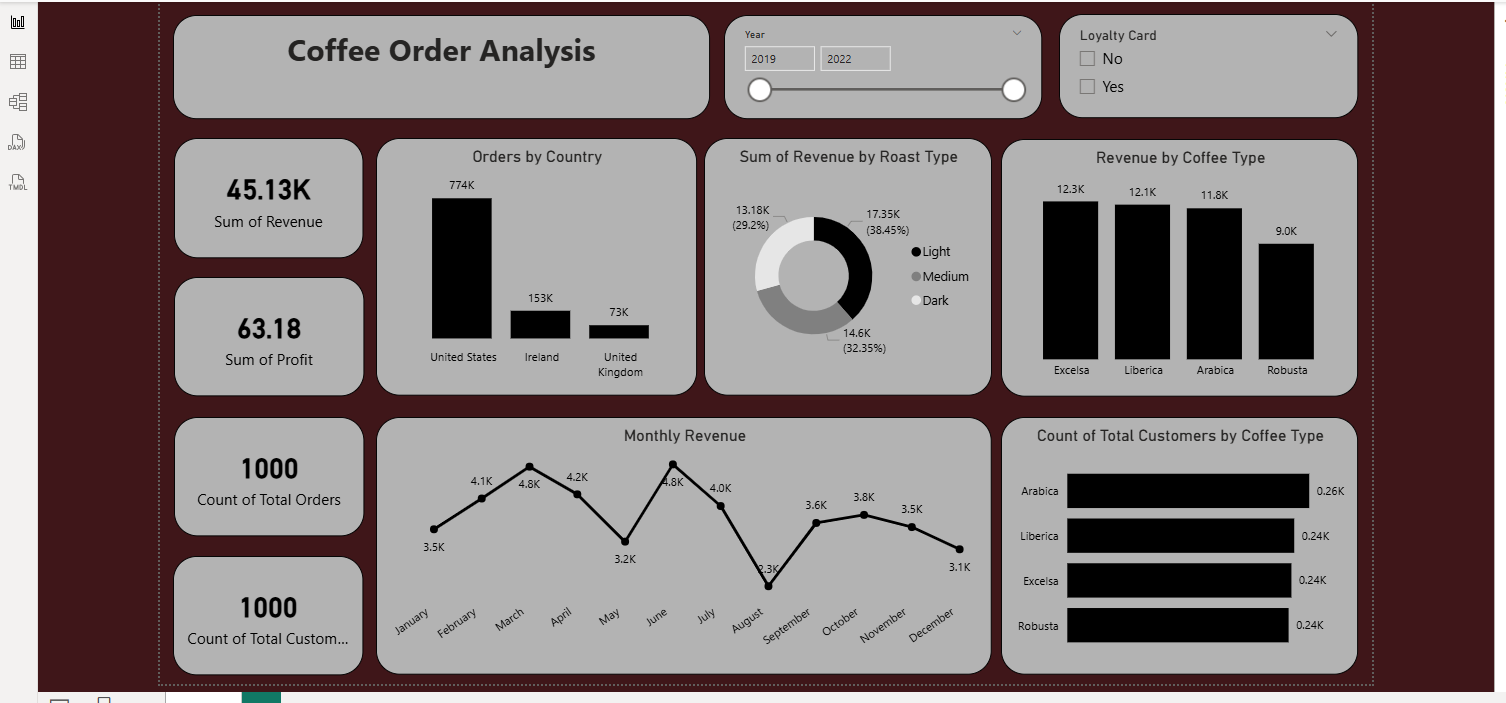

The page's visual inventory and layout, read from the dashboard file:
{"tool":"powerbi","page":{"name":"Page 1","canvas":[1280,720],"ordinal":0},"visuals":[{"type":"columnChart","title":"Orders by Country","fields":{"Category":["customers.Country"],"Y":["Sum(orders.Total Orders)"]},"box":[227.6,144.1,338.7,271.6],"z":0},{"type":"donutChart","fields":{"Category":["products.Roast Type"],"Y":["Sum(orders.Revenue)"]},"box":[574,144.1,303.5,271.6],"z":1000},{"type":"card","fields":{"Values":["CountNonNull(customers.Total Customers)"]},"box":[13.7,584.9,200.6,125.6],"z":2000},{"type":"clusteredColumnChart","title":"Revenue by Coffee Type","fields":{"Category":["products.Coffee Type"],"Y":["Sum(orders.Revenue)"]},"box":[887.4,145.2,377.2,271.6],"z":3000},{"type":"lineChart","title":"Monthly Revenue","fields":{"Category":["orders.Order Date.Variation.Date Hierarchy.Month"],"Y":["Sum(orders.Revenue)"]},"box":[228,438.1,650.3,272.4],"z":4000},{"type":"card","fields":{"Values":["Sum(orders.Revenue)"]},"box":[14.8,143.6,199.5,126.7],"z":5000},{"type":"card","fields":{"Values":["CountNonNull(orders.Total Orders)"]},"box":[14.8,438.1,200.6,125.6],"z":6000},{"type":"textbox","box":[13.7,13.7,566.9,109.8],"z":7000},{"type":"slicer","fields":{"Values":["orders.Order Date.Variation.Date Hierarchy.Year"]},"box":[595.4,13.7,335.7,109.8],"z":8000},{"type":"slicer","fields":{"Values":["customers.Loyalty Card"]},"box":[949,13.2,315.6,110],"z":9000},{"type":"card","fields":{"Values":["Sum(products.Profit)"]},"box":[14.8,290.3,200.6,125.6],"z":10000},{"type":"clusteredBarChart","fields":{"Category":["products.Coffee Type"],"Y":["CountNonNull(customers.Total Customers)"]},"box":[887.9,438.1,376.9,272.4],"z":11000}]}

Visuals, with their boxes in screenshot pixels (x1, y1, x2, y2):
"Orders by Country" columnChart: <bbox>364, 135, 690, 396</bbox>
donutChart - products.Roast Type x Sum(orders.Revenue): <bbox>697, 135, 989, 396</bbox>
card - CountNonNull(customers.Total Customers): <bbox>158, 558, 351, 679</bbox>
"Revenue by Coffee Type" clusteredColumnChart: <bbox>998, 136, 1361, 397</bbox>
"Monthly Revenue" lineChart: <bbox>364, 417, 990, 679</bbox>
card - Sum(orders.Revenue): <bbox>159, 134, 351, 256</bbox>
card - CountNonNull(orders.Total Orders): <bbox>159, 417, 352, 538</bbox>
textbox: <bbox>158, 9, 703, 115</bbox>
slicer - orders.Order Date.Variation.Date Hierarchy.Year: <bbox>718, 9, 1040, 115</bbox>
slicer - customers.Loyalty Card: <bbox>1058, 9, 1361, 115</bbox>
card - Sum(products.Profit): <bbox>159, 275, 352, 396</bbox>
clusteredBarChart - products.Coffee Type x CountNonNull(customers.Total Customers): <bbox>999, 417, 1361, 679</bbox>
